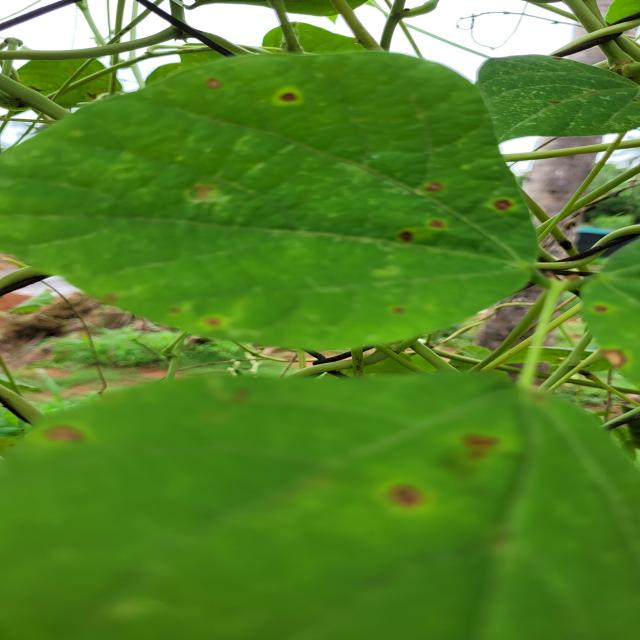Dolicos bean_cercospora leaf spot: (0, 367, 640, 640), (3, 46, 564, 355)
Dolicos bean_healthy: (466, 39, 640, 144)
